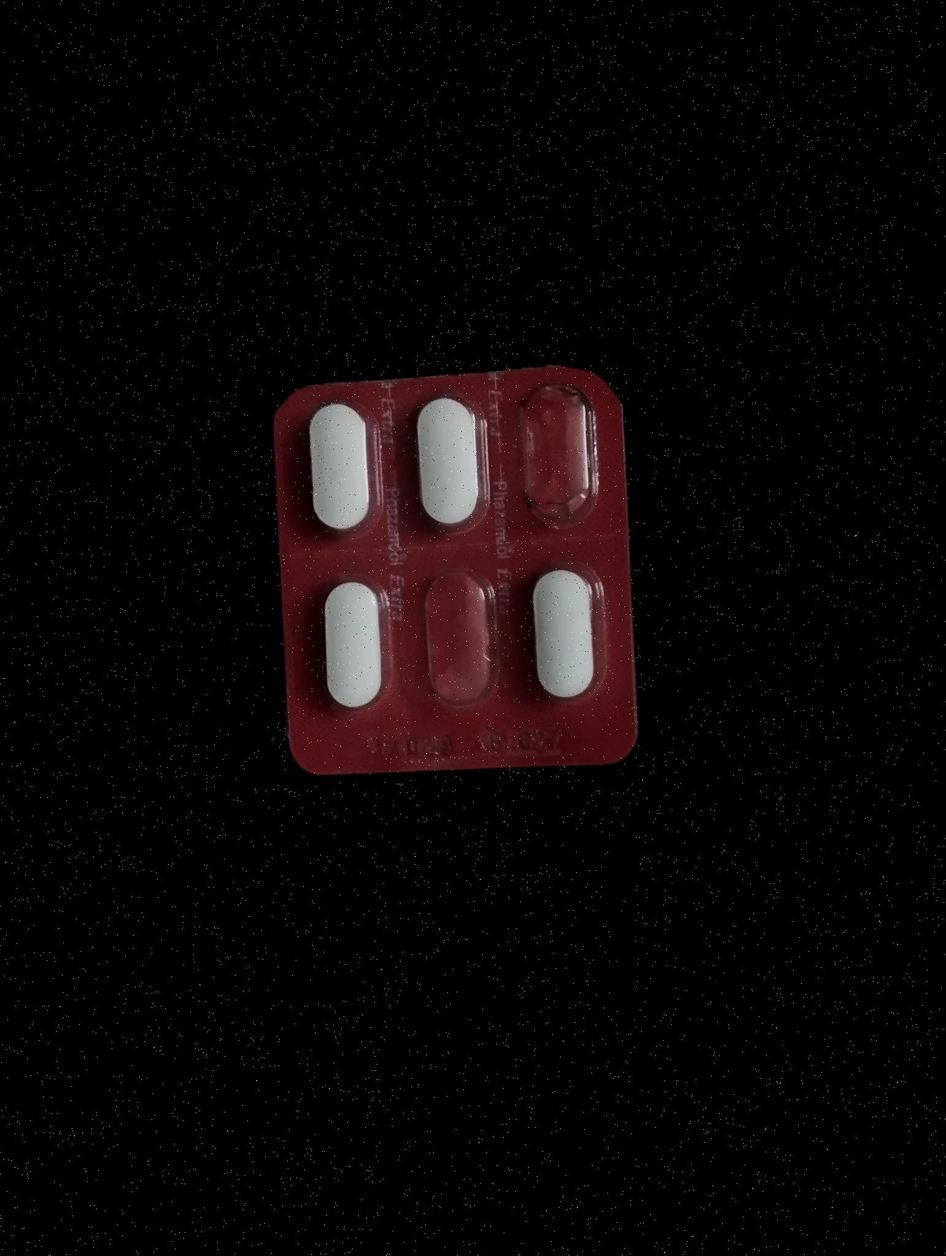Empty: (508, 381, 599, 540), (412, 567, 500, 713)
Full: (406, 386, 485, 548), (300, 389, 379, 546), (525, 563, 599, 716), (317, 578, 385, 714)
